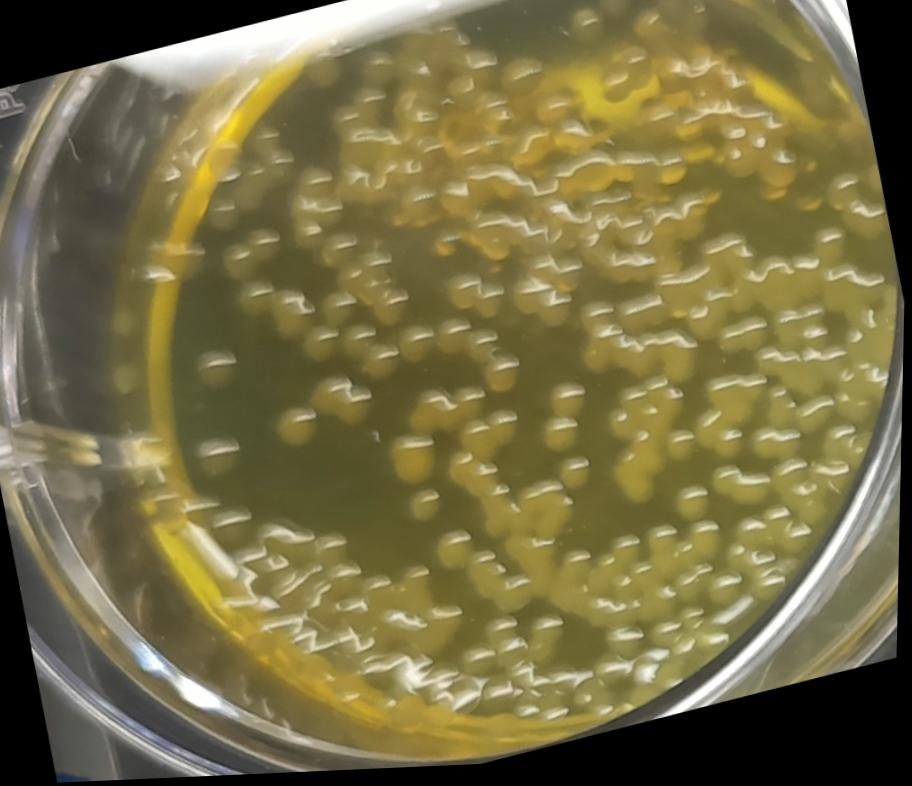vangil: (317, 221, 418, 346), (446, 446, 523, 553), (277, 164, 351, 258), (465, 540, 540, 629), (515, 475, 583, 550), (431, 309, 504, 377), (379, 430, 448, 499), (440, 265, 511, 331), (309, 370, 378, 437), (215, 222, 284, 285), (399, 382, 468, 445), (707, 461, 776, 521), (263, 283, 320, 348), (489, 52, 548, 109), (267, 401, 325, 458), (192, 428, 250, 484), (521, 612, 574, 672), (187, 341, 242, 398), (483, 616, 534, 675), (714, 316, 774, 366), (666, 483, 717, 537), (394, 321, 443, 377), (536, 414, 588, 465), (751, 425, 806, 473), (479, 352, 529, 402), (231, 274, 282, 323), (617, 294, 671, 340), (540, 378, 589, 427), (430, 530, 478, 578), (554, 453, 600, 501), (299, 322, 345, 369), (318, 289, 361, 335), (405, 485, 448, 530), (457, 643, 501, 686), (810, 231, 852, 275), (664, 429, 700, 470)
